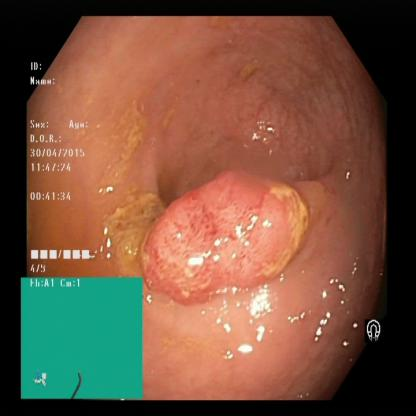Labels: (25, 61, 108, 279), (22, 278, 145, 399), (358, 312, 389, 349)
Polyps: (147, 173, 312, 289)
